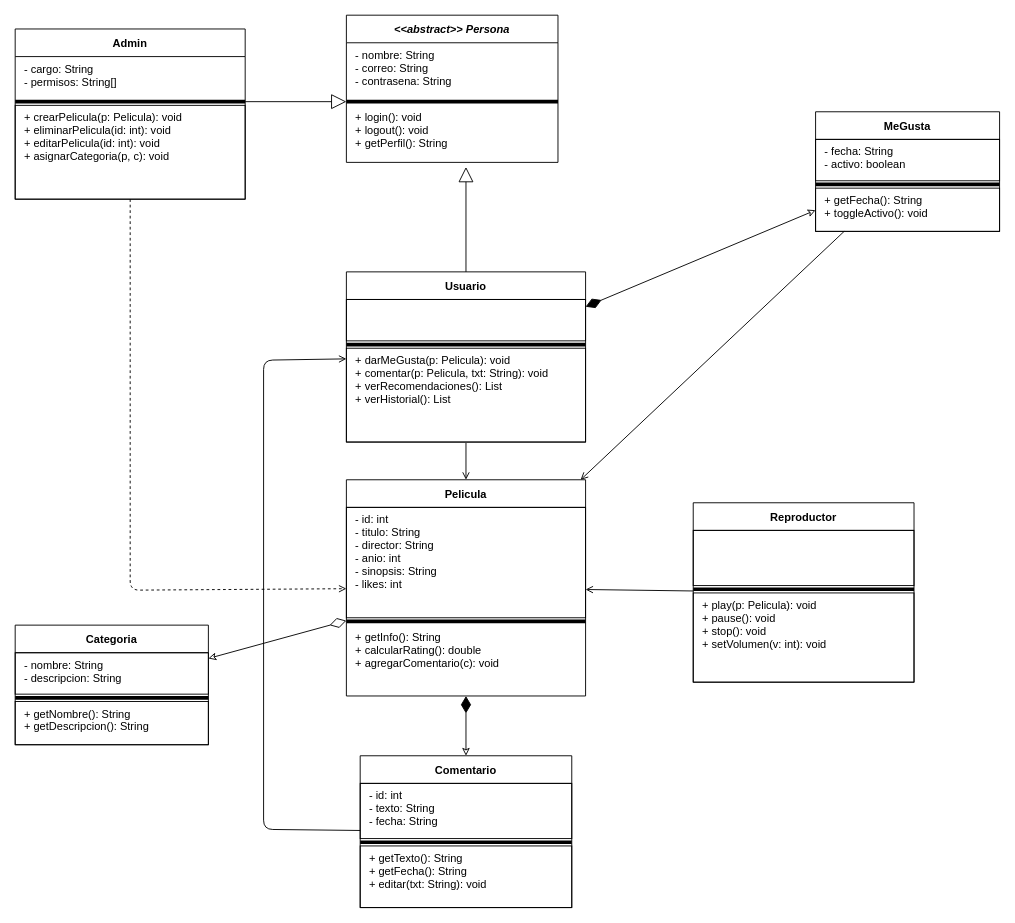
Some shapes in this 1015 by 923 pixel diagram are drawn without their labels. Here are the shapes that lost their labels. From the top down, the centre of each, then its label:
pixel 465 320: - fechaRegistro: String - historialVisto: List
pixel 803 557: - volumen: int - calidad: String - estado: String
